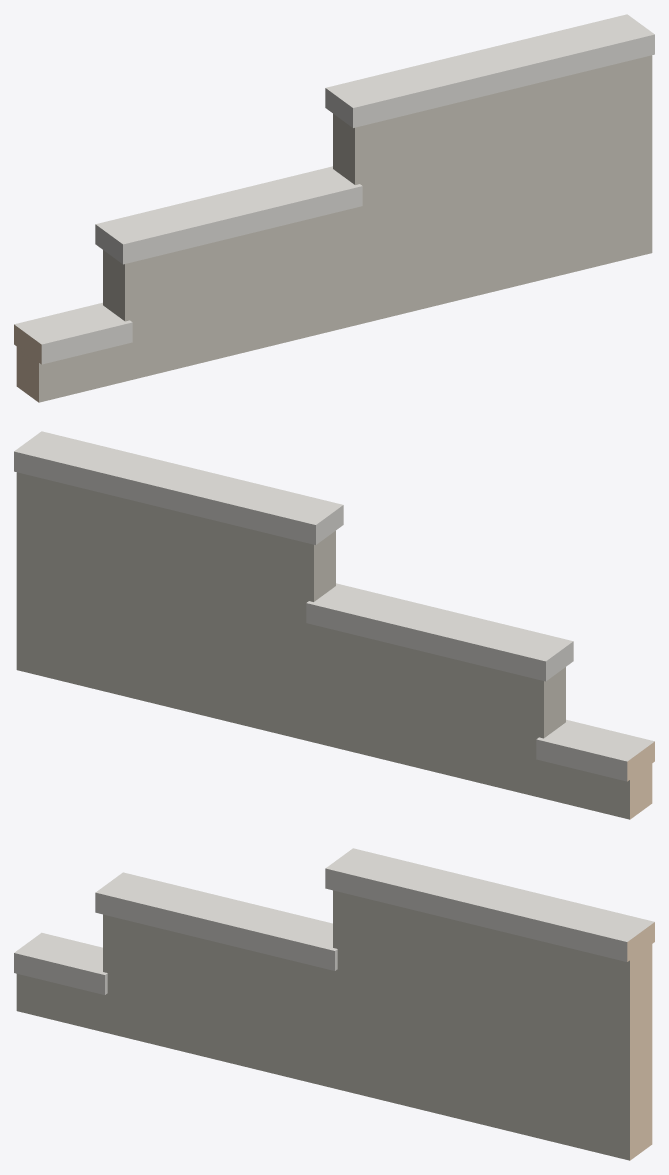
File: Tiered_Retaining_Wall_Stepped_Straight_1x4.glb
3 views of the same model, one above another, from view 1: azimuth 30°, elevation 25°; view 2: azimuth 150°, elevation 25°; view 3: azimuth 330°, elevation 25° (orthographic).
Parts seen in each view (by area): view 1: Tiered_Retaining_Wall_Stepped_Straight_1x4; view 2: Tiered_Retaining_Wall_Stepped_Straight_1x4; view 3: Tiered_Retaining_Wall_Stepped_Straight_1x4.
Boxes of the visible parts, x1,y1,x2,y2 form: Tiered_Retaining_Wall_Stepped_Straight_1x4: (14, 14, 654, 402); Tiered_Retaining_Wall_Stepped_Straight_1x4: (14, 431, 654, 819); Tiered_Retaining_Wall_Stepped_Straight_1x4: (14, 848, 654, 1160).
Bounding box in the file's own units: 400 × 138 × 31.25.
